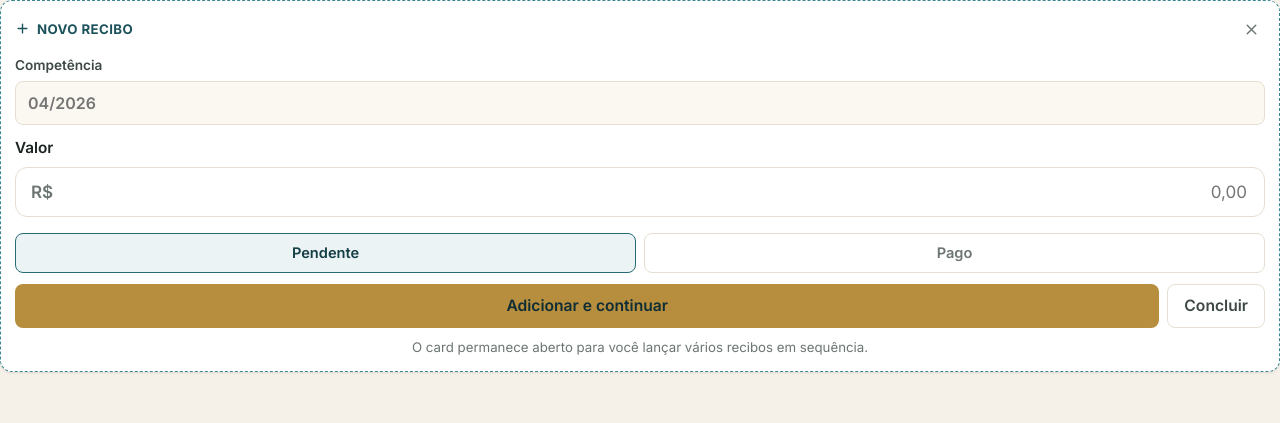
Test: NewReceiptCard › blocks saving when the competência is not MM/AAAA
This screenshot has width=1280, height=423.
Step 1. Type "abril" into the field labelled "Competência" → (640, 103), box [15,81,1265,125]
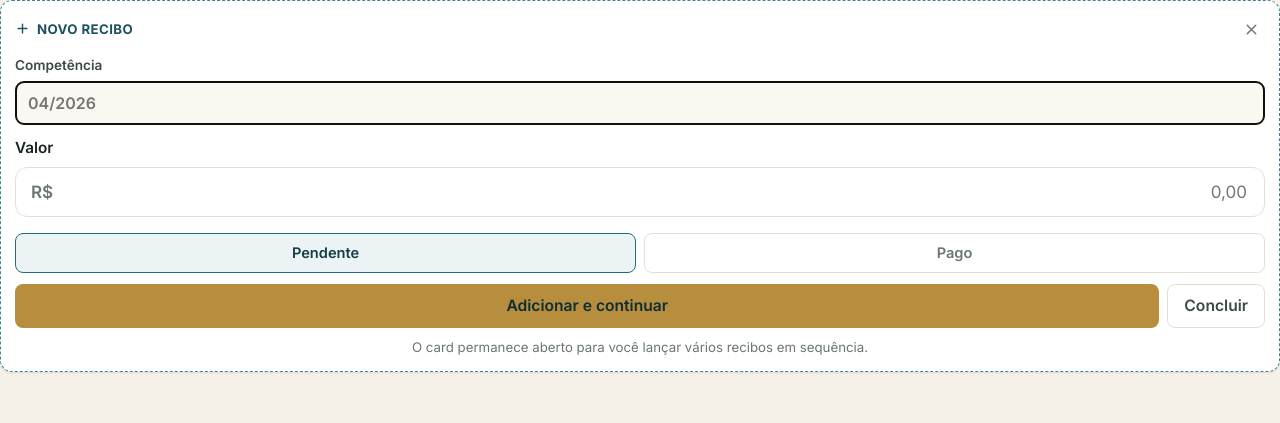
Step 2. Type "15000" into the field labelled "Valor" → (655, 192), box [61,181,1249,203]
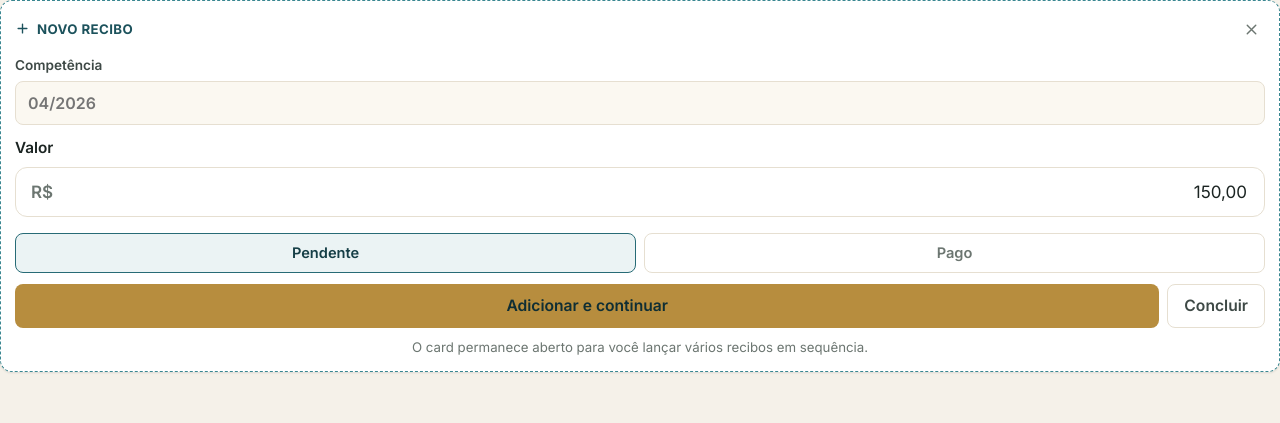
Step 3. Click the button "Adicionar e continuar" → (587, 306), box [15,284,1159,328]
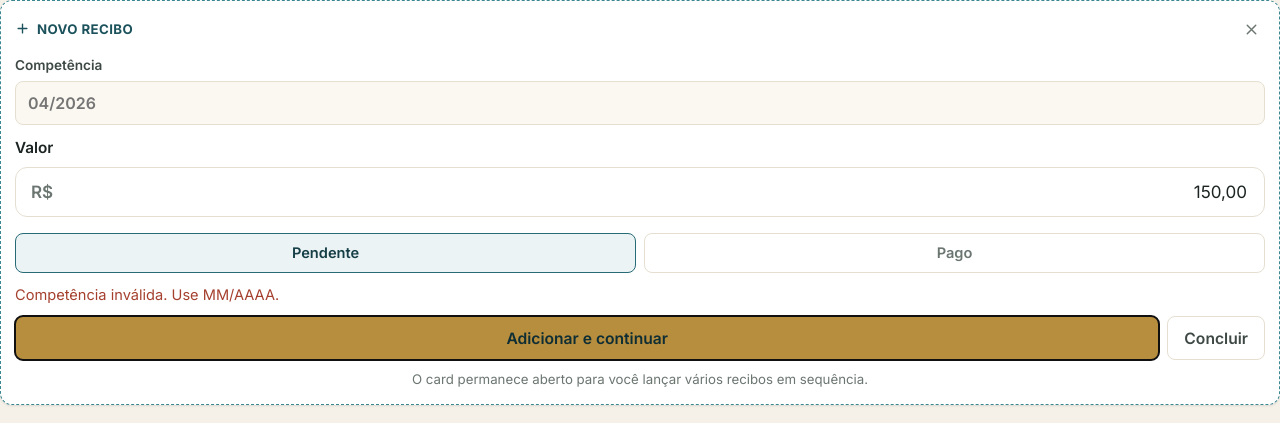
Check: the text "Competência inválida. Use MM/AAAA." is shown, box [15,286,279,304]
